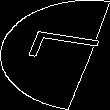L_E: (10, 34, 100, 76)
